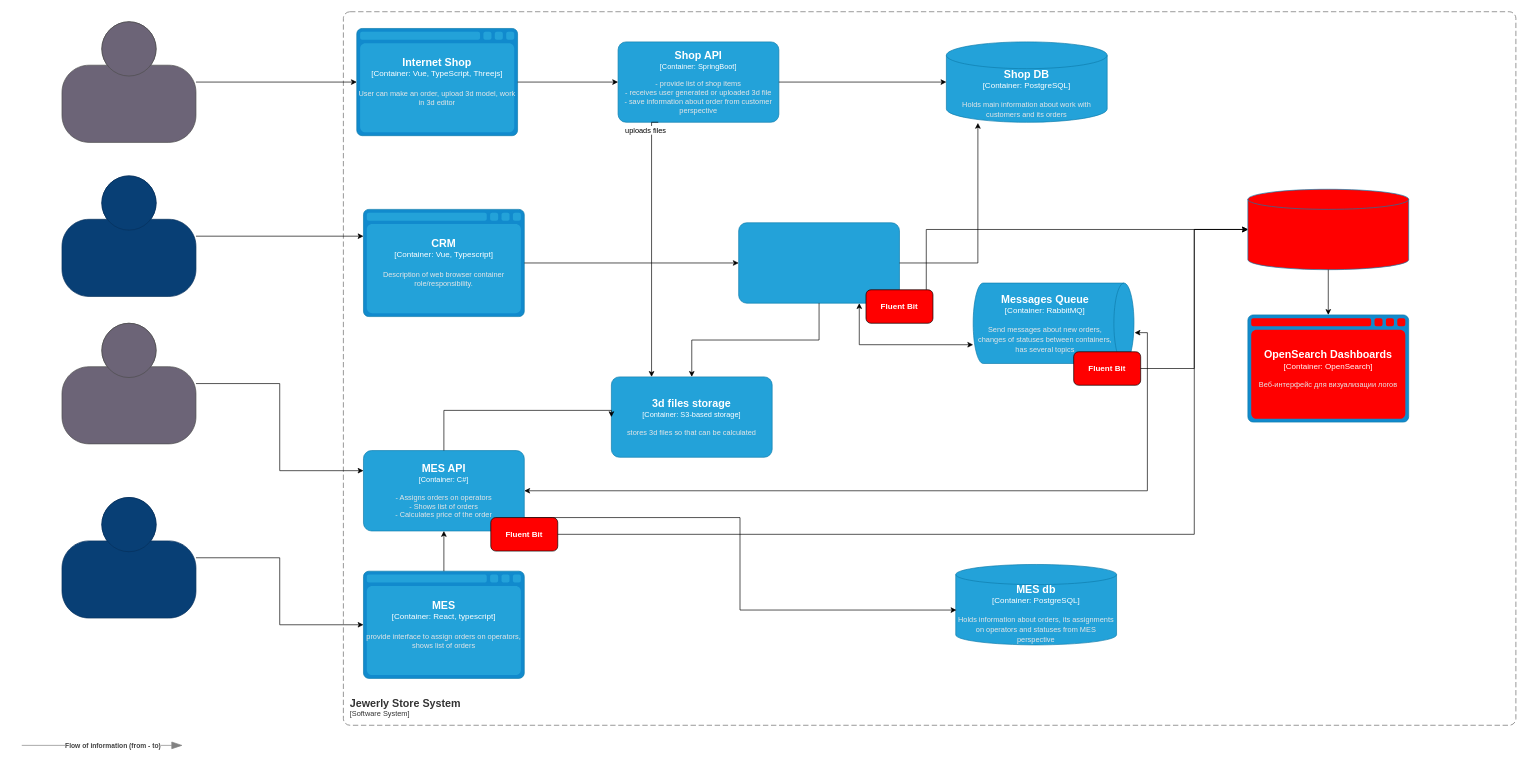
This 1528x768 diagram has some shape labels left out. Each missing label, with the centre of its shape:
API user [Person] Description of external person.: the point at 128,383
CRM API [Container: SpringBoot] Description of container role/responsibility.: the point at 818,262
Customer [Person] Description of external person.: the point at 128,81
OpenSearch [Container: OpenSearch] БД для хранения и поиска логов: the point at 1328,229
Operator [Person] Takes order in work, manufactures jewerly: the point at 128,557
Seller [Person] Operates with order, confirms manufacturing for the user: the point at 128,235
